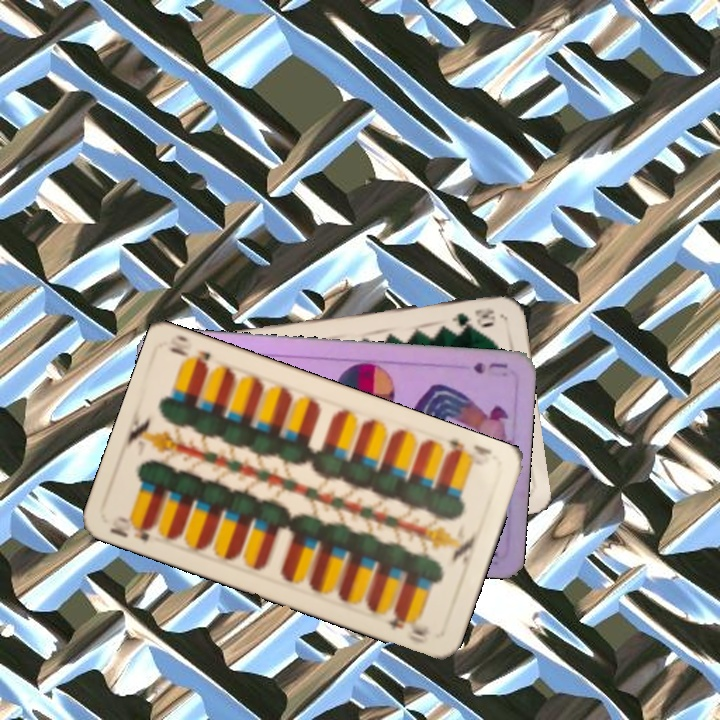E10: (106, 512, 156, 544), (442, 435, 468, 462)
G10: (447, 304, 498, 329)
SU: (469, 358, 510, 376)
